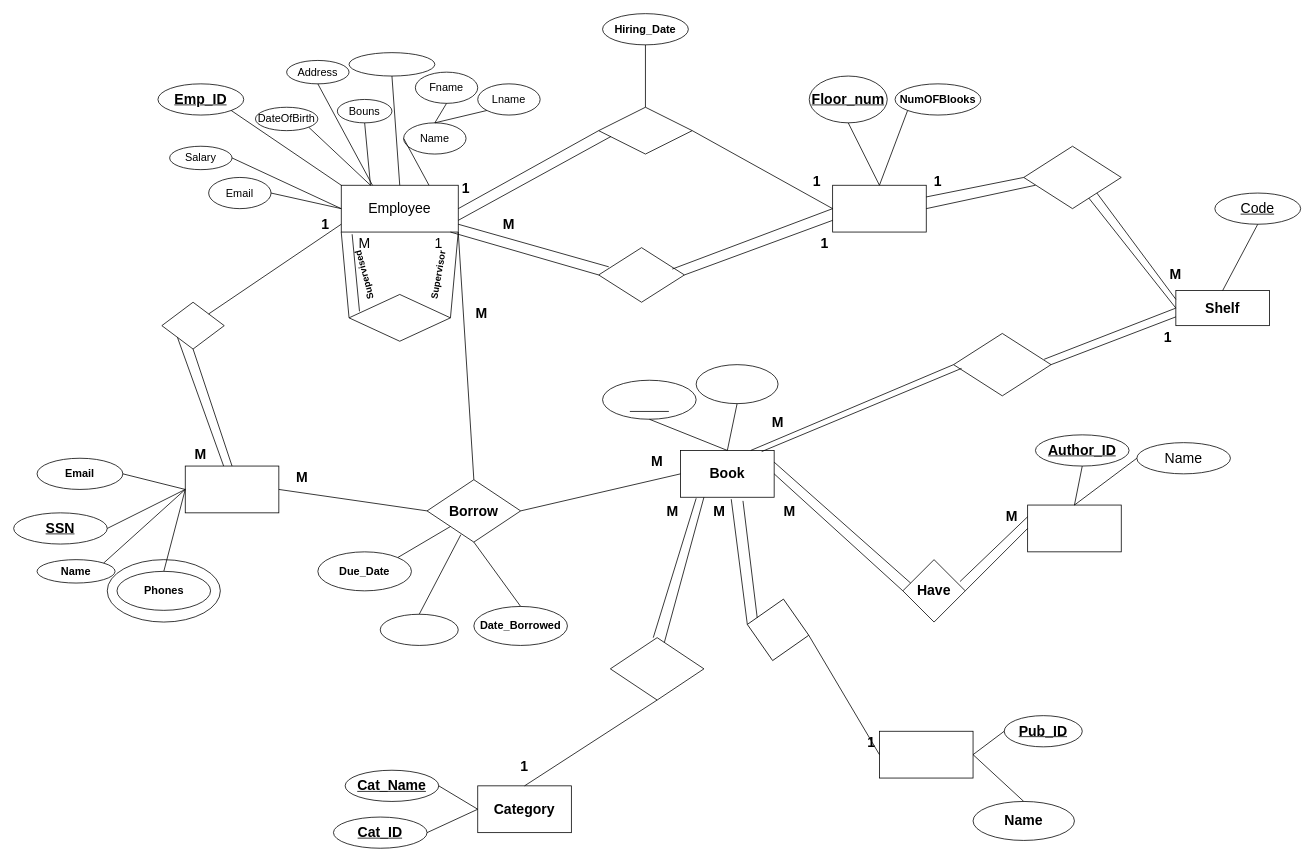
Some shapes in this 1314 by 862 pixel diagram are drawn without their labels. Here are the shapes that lost their labels. From the top down, the centre of each, then its label:
At (x=391, y=64): "Phone_Num".
At (x=645, y=130): "Manage".
At (x=1072, y=177): "Located".
At (x=879, y=208): "Floor".
At (x=641, y=274): "Work".
At (x=192, y=325): "Record".
At (x=399, y=317): "Supervise".
At (x=736, y=384): "Title".
At (x=1002, y=364): "Assign".
At (x=649, y=399): "ID".
At (x=231, y=489): "User".
At (x=1074, y=528): "Author".
At (x=418, y=629): "Fees".
At (x=777, y=629): "Has".
At (x=657, y=668): "Classified".
At (x=926, y=754): "Publisher".
